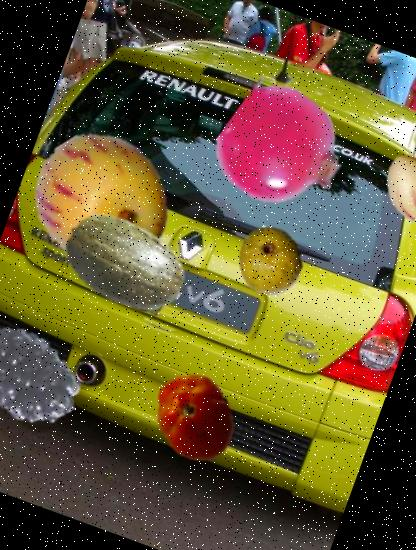Cactus: (88, 246, 178, 336)
Guava: (224, 216, 316, 306)
Melon: (43, 182, 206, 345)
Mulberry: (0, 304, 99, 450)
Pepino: (13, 112, 190, 290), (368, 142, 416, 234)
Redcurrant: (206, 72, 361, 227)
Tomato: (136, 360, 253, 477)
